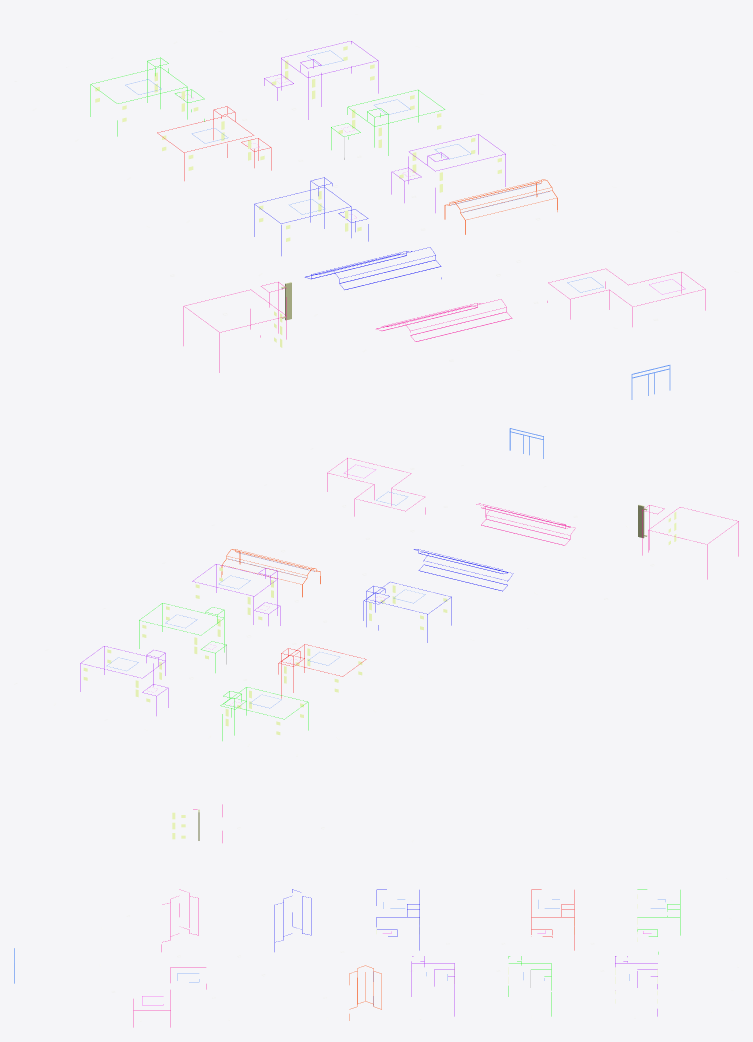
File: EmitBodies-transformed.glb
The picture shows the model from 3 angles, top to bottom: view 1: azimuth 30°, elevation 25°; view 2: azimuth 150°, elevation 25°; view 3: azimuth 270°, elevation 25°; orthographic projection. The views are drawn at different scales.
Bounding box in the file's own units: 3371 × 618 × 5281.
